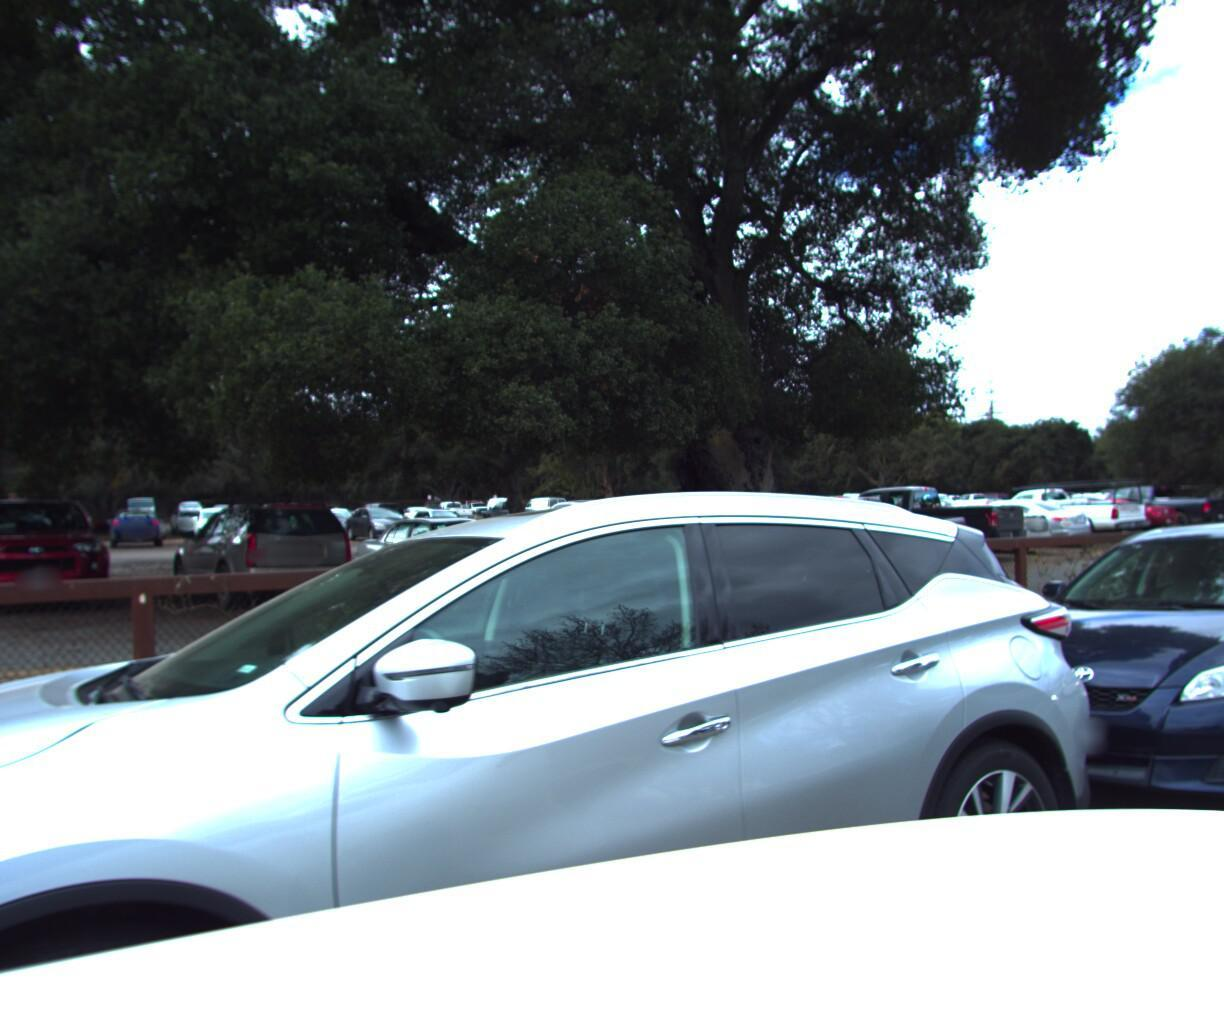car: (0, 453, 1194, 1024), (930, 496, 1224, 904), (166, 488, 376, 612), (344, 505, 586, 603), (749, 483, 976, 569), (803, 475, 1035, 558), (530, 486, 737, 576), (0, 483, 120, 622), (888, 493, 1064, 554)
